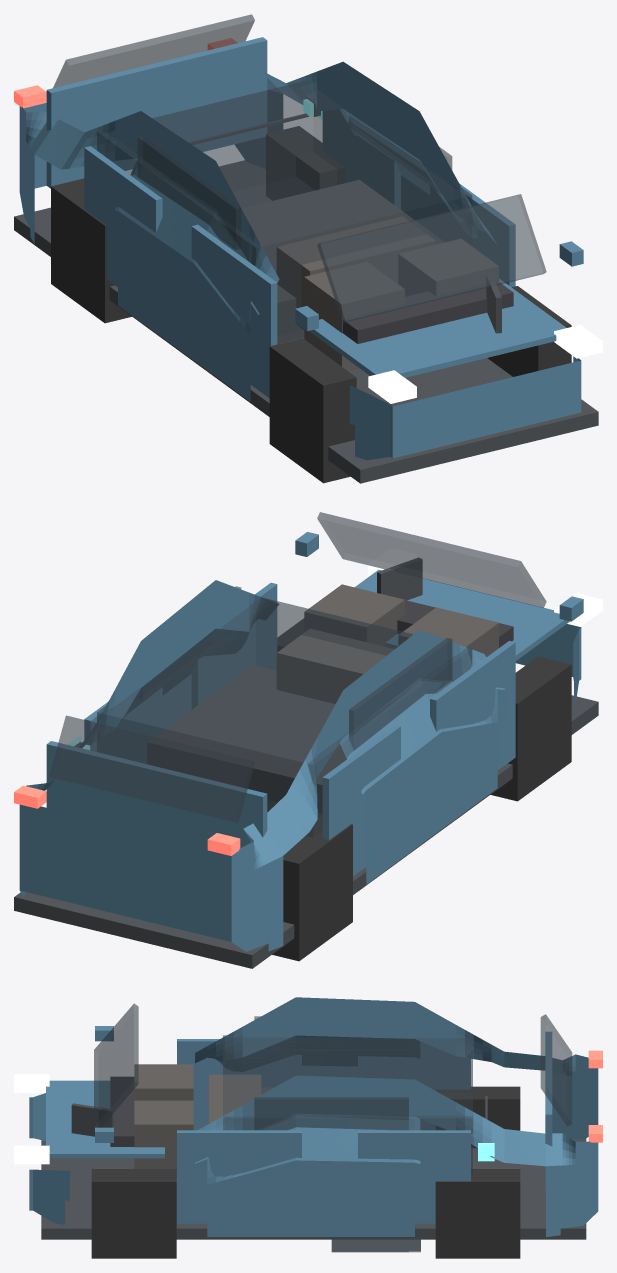
File: compact_crossover_lod.glb
The picture shows the model from 3 angles, top to bottom: view 1: azimuth 30°, elevation 25°; view 2: azimuth 150°, elevation 25°; view 3: azimuth 270°, elevation 25°; orthographic projection. The views are drawn at different scales.
Parts seen in each view (by area): view 1: body_mesh, cab_mesh, windshield, liftgate_mesh, trim_mesh, tire_fr, frunk_mesh, wheel_well_mesh, tire_rr, seat_rear, door_fr_mesh, seat_r (+13 smaller); view 2: body_mesh, cab_mesh, wheel_well_mesh, liftgate_mesh, rear_glass, windshield, tire_rr, trim_mesh, tire_fr, seat_rear, door_fr_mesh, door_rr_mesh (+12 smaller); view 3: body_mesh, cab_mesh, tire_fl, trim_mesh, tire_rl, door_fl_mesh, door_rl_mesh, window_fixed_l, frunk_mesh, windshield, door_rr_mesh, seat_l (+13 smaller).
Part boxes in pixels (left/top/right/bottom): body_mesh: left=19, top=61, right=581, bottom=460; cab_mesh: left=97, top=80, right=472, bottom=335; windshield: left=317, top=194, right=546, bottom=322; liftgate_mesh: left=46, top=37, right=267, bottom=188; trim_mesh: left=14, top=160, right=598, bottom=483; tire_fr: left=269, top=338, right=356, bottom=483; frunk_mesh: left=309, top=279, right=566, bottom=377; wheel_well_mesh: left=241, top=180, right=444, bottom=343; tire_rr: left=51, top=178, right=131, bottom=323; seat_rear: left=276, top=216, right=435, bottom=329; door_fr_mesh: left=191, top=224, right=277, bottom=398; seat_r: left=304, top=262, right=404, bottom=371; body_mesh: left=19, top=580, right=581, bottom=951; cab_mesh: left=97, top=597, right=472, bottom=837; wheel_well_mesh: left=147, top=665, right=346, bottom=816; liftgate_mesh: left=46, top=741, right=267, bottom=847; rear_glass: left=49, top=715, right=254, bottom=822; windshield: left=317, top=512, right=546, bottom=607; tire_rr: left=272, top=816, right=352, bottom=961; trim_mesh: left=14, top=695, right=598, bottom=968; tire_fr: left=490, top=656, right=571, bottom=801; seat_rear: left=276, top=629, right=394, bottom=703; door_fr_mesh: left=430, top=640, right=515, bottom=770; door_rr_mesh: left=322, top=725, right=400, bottom=876; body_mesh: left=29, top=997, right=598, bottom=1237; cab_mesh: left=223, top=1035, right=472, bottom=1175; tire_fl: left=91, top=1169, right=176, bottom=1258; trim_mesh: left=41, top=1138, right=586, bottom=1239; tire_rl: left=435, top=1169, right=520, bottom=1258; door_fl_mesh: left=177, top=1130, right=301, bottom=1223; door_rl_mesh: left=358, top=1130, right=470, bottom=1223; window_fixed_l: left=254, top=1097, right=408, bottom=1130; frunk_mesh: left=46, top=1080, right=164, bottom=1158; windshield: left=94, top=1003, right=138, bottom=1127; door_rr_mesh: left=358, top=1042, right=470, bottom=1129; seat_l: left=134, top=1100, right=193, bottom=1178.
Size of the model in its own units: 2.11 by 1.99 by 4.95.
